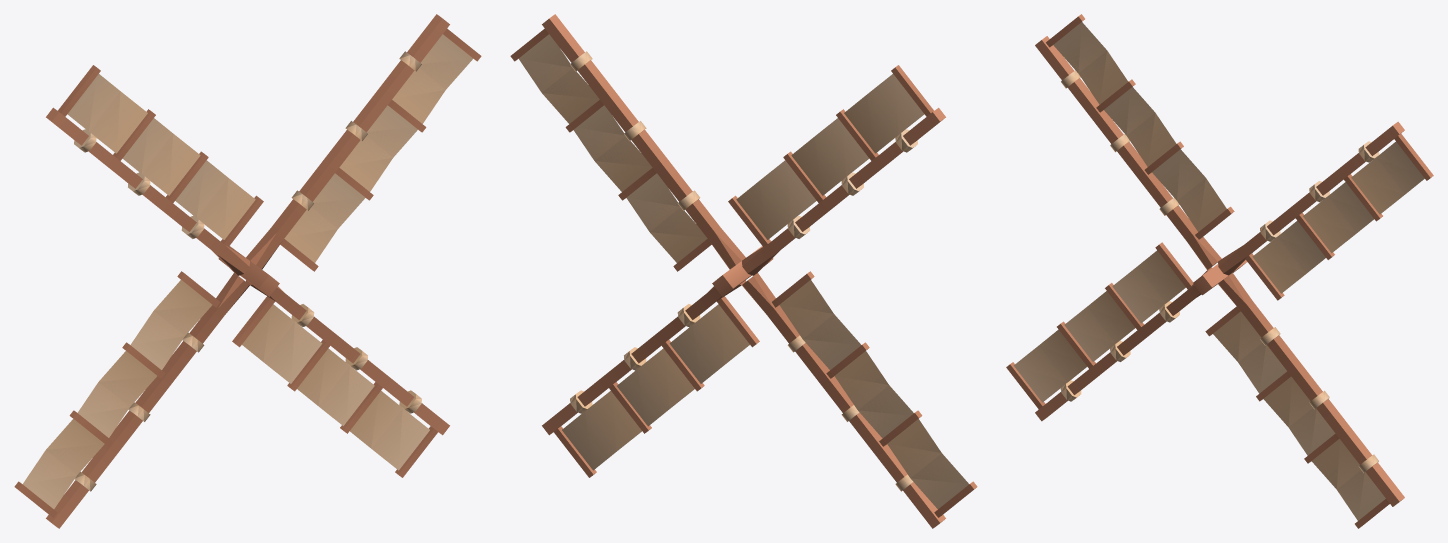
The model's file is windmill_blades.glb.
3 views of the same model, side by side, from view 1: azimuth 30°, elevation 25°; view 2: azimuth 150°, elevation 25°; view 3: azimuth 330°, elevation 25° (orthographic). The views are drawn at different scales.
Visible parts, largest first — view 1: windmill_blades; view 2: windmill_blades; view 3: windmill_blades.
Part boxes in pixels (left/top/right/bottom): windmill_blades: left=14, top=14, right=481, bottom=528; windmill_blades: left=510, top=14, right=977, bottom=528; windmill_blades: left=1006, top=14, right=1433, bottom=528.
Size of the model in its own units: 16.81 by 16.81 by 2.54.
Materials: 1 (1 with a texture image).
